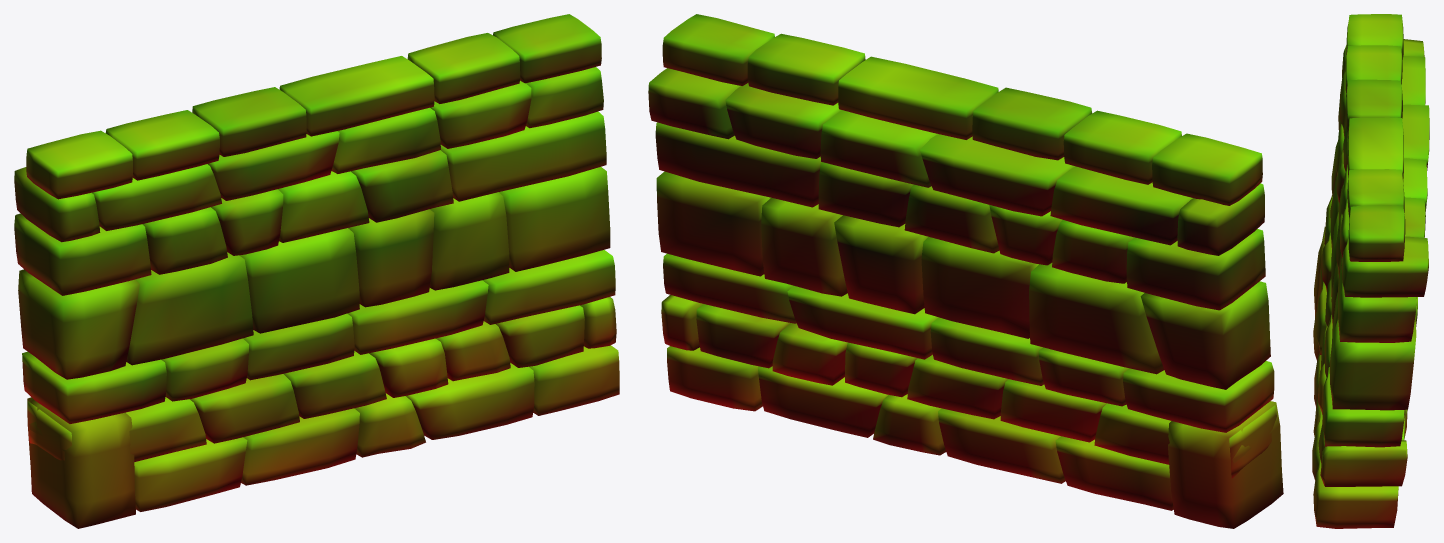
Rendered from terrace_wall_4m.glb.
3 renders of one model, left to right at view 1: azimuth 30°, elevation 25°; view 2: azimuth 150°, elevation 25°; view 3: azimuth 270°, elevation 25°, orthographic. The views are drawn at different scales.
Visible parts, largest first — view 1: terrace_wall_4m; view 2: terrace_wall_4m; view 3: terrace_wall_4m.
Part boxes in pixels (x1,y1,x2,y2): terrace_wall_4m: (14,14,619,528); terrace_wall_4m: (648,14,1283,528); terrace_wall_4m: (1312,14,1429,528).
Size of what is drawn, in the model's own units: 4 by 2.44 by 0.8781.
